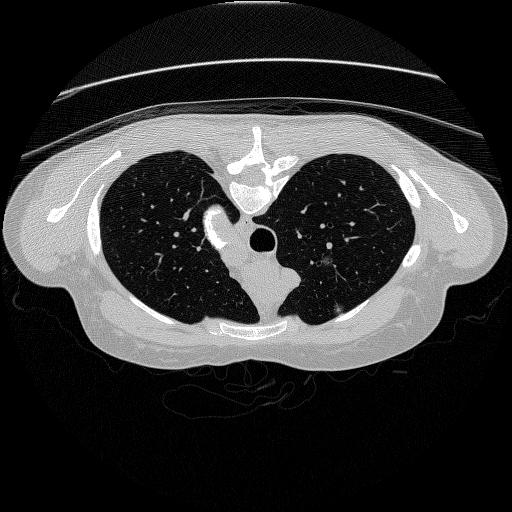nodule: (333, 303, 347, 317)
